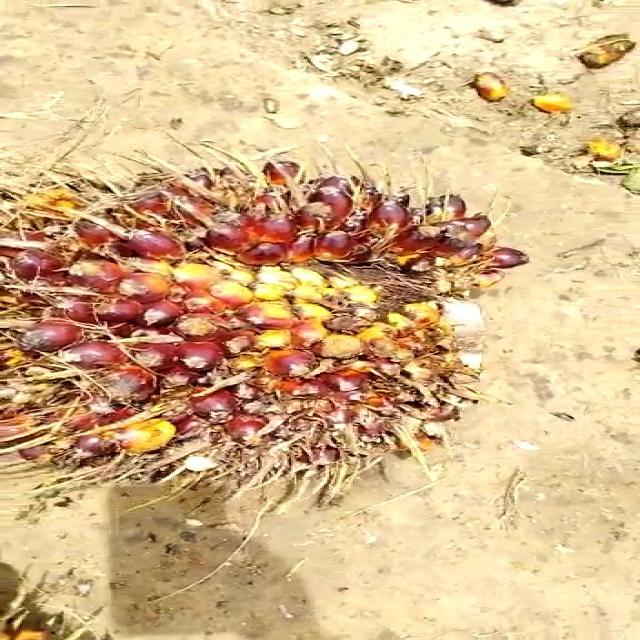palm oil: (0, 150, 498, 522)
